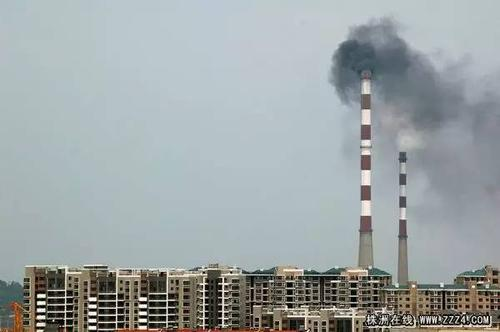smoke: (328, 9, 472, 127)
